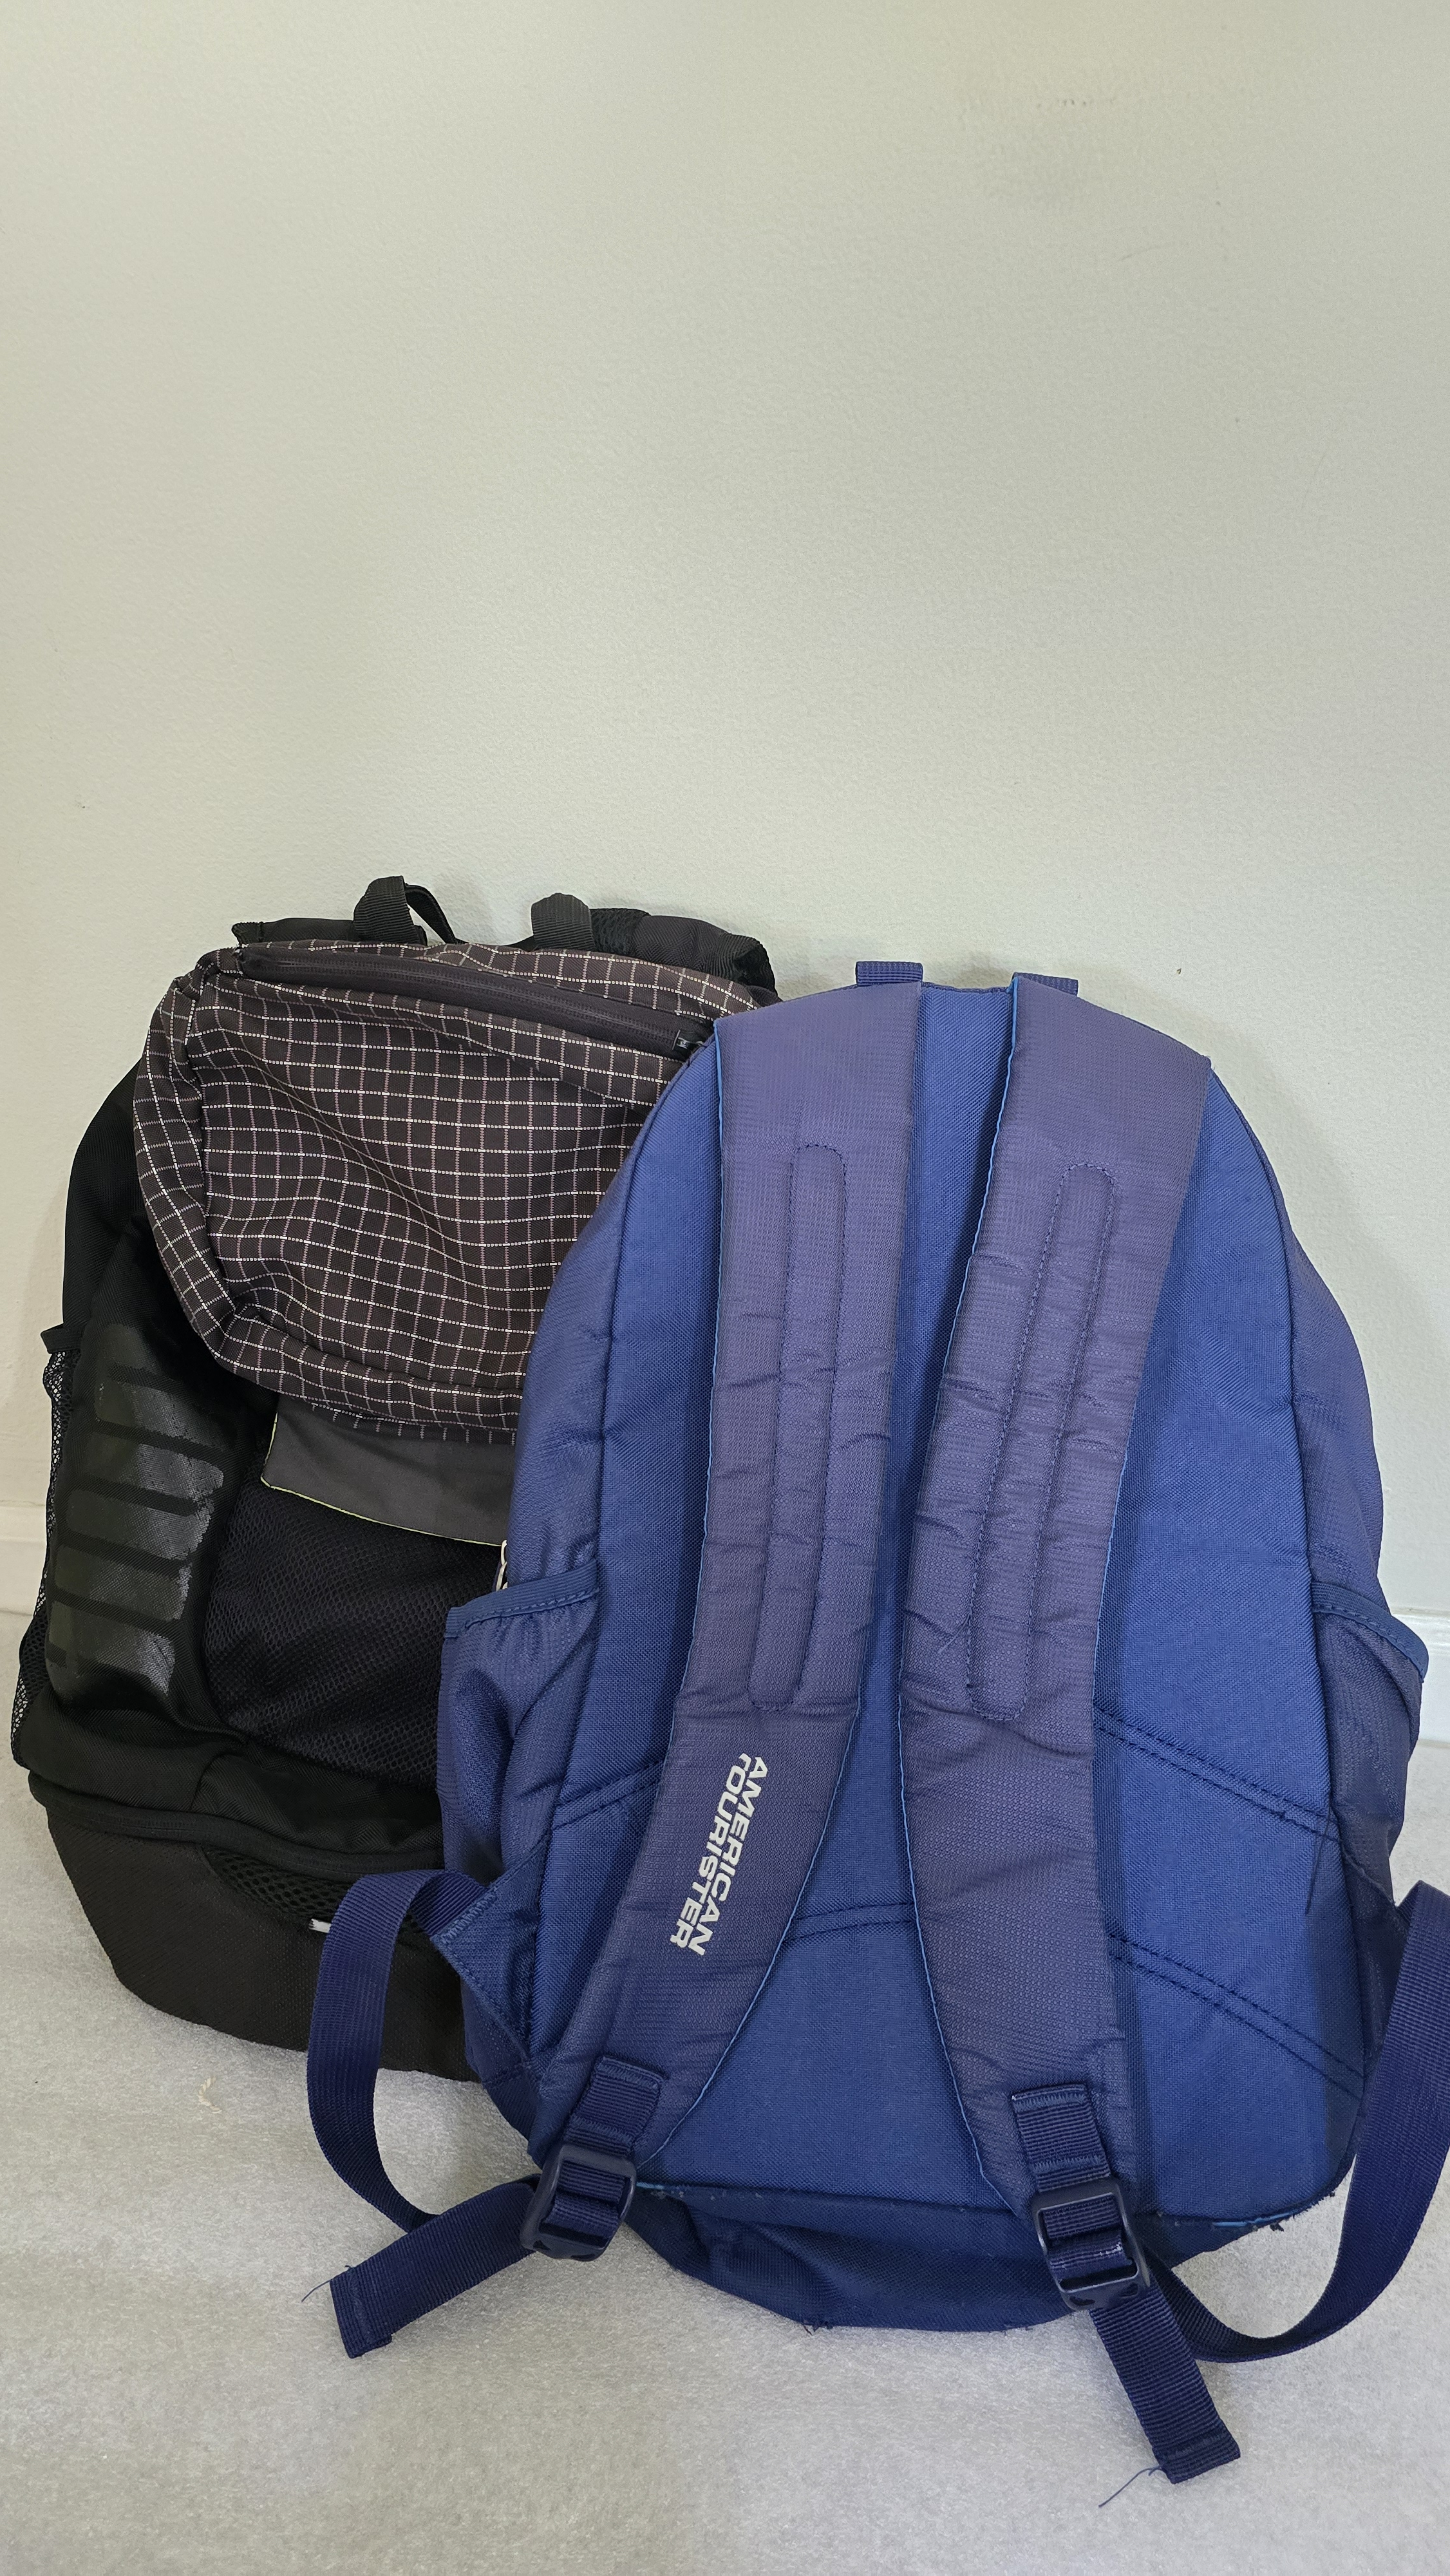bag: (437, 973, 1450, 2342), (80, 856, 555, 2063)
